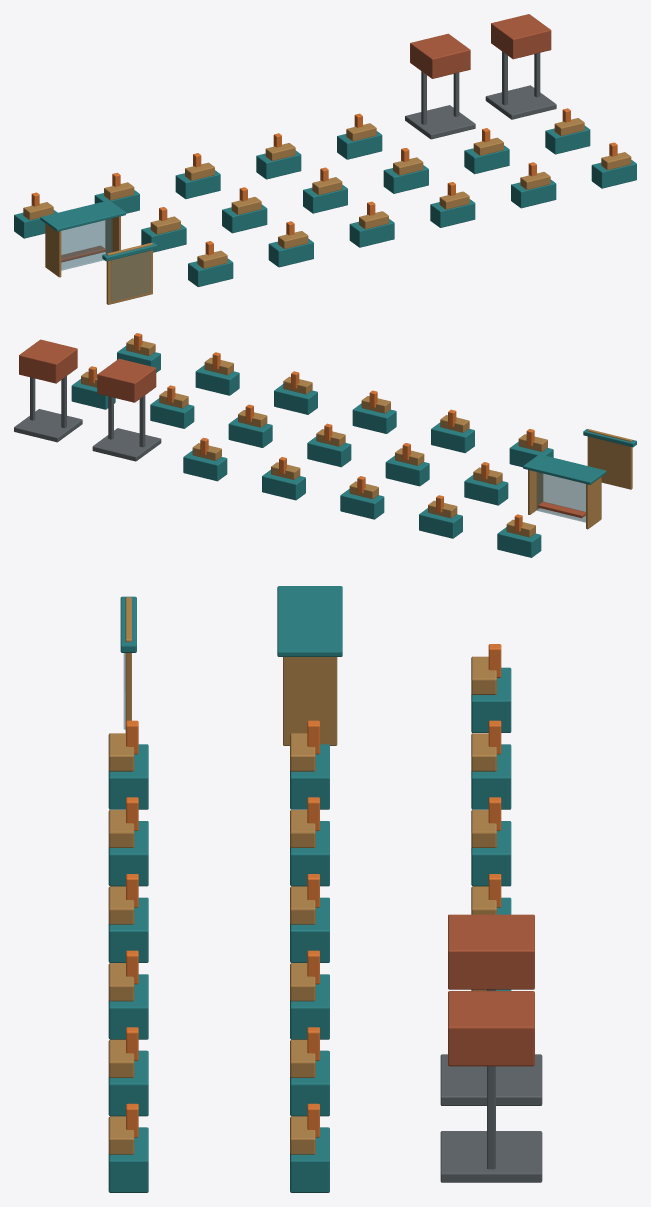
The model's file is infinite_backlot_expansion_assets.glb.
3 views of the same model, one above another, from view 1: azimuth 30°, elevation 25°; view 2: azimuth 150°, elevation 25°; view 3: azimuth 270°, elevation 25° (orthographic). The views are drawn at different scales.
Visible parts, largest first — view 1: LIB_CORNER_WINDOW_00, LIB_WATER_TOWER_SILHOUETTE_03, LIB_CHIMNEY_CLUSTER_03, LIB_TRANSIT_SHELTER_00, LIB_CORNER_WINDOW_01, LIB_WATER_TOWER_SILHOUETTE_00, LIB_TRANSIT_SHELTER_03, LIB_CHIMNEY_CLUSTER_00, LIB_FOLDING_BARRIER_00, LIB_NEWSPAPER_BOX_00, LIB_BOLLARD_FAMILY_00, LIB_ROLLING_SHUTTER_00 (+15 smaller); view 2: LIB_WATER_TOWER_SILHOUETTE_03, LIB_CHIMNEY_CLUSTER_03, LIB_CORNER_WINDOW_00, LIB_TRANSIT_SHELTER_00, LIB_WATER_TOWER_SILHOUETTE_00, LIB_CHIMNEY_CLUSTER_00, LIB_TRANSIT_SHELTER_03, LIB_PARKING_METER_00, LIB_BIKE_RACK_VARIANT_00, LIB_NEWSPAPER_BOX_00, LIB_TRAFFIC_SIGNAL_00, LIB_TRANSIT_MAP_00 (+16 smaller); view 3: LIB_WATER_TOWER_SILHOUETTE_03, LIB_CHIMNEY_CLUSTER_03, LIB_CHIMNEY_CLUSTER_00, LIB_TRANSIT_SHELTER_03, LIB_TRANSIT_SHELTER_02, LIB_WATER_TOWER_SILHOUETTE_00, LIB_UTILITY_CONDUIT_BUNDLE_00, LIB_BOLLARD_FAMILY_00, LIB_ROOF_HVAC_CLUSTER_00, LIB_TREE_GUARD_00, LIB_ROLLING_SHUTTER_00, LIB_SHOP_ENTRANCE_CANOPY_00 (+25 smaller).
Boxes of the visible parts, x1,y1,x2,y2 form: LIB_CORNER_WINDOW_00: (106, 242, 152, 304); LIB_WATER_TOWER_SILHOUETTE_03: (410, 33, 470, 78); LIB_CHIMNEY_CLUSTER_03: (491, 14, 551, 59); LIB_TRANSIT_SHELTER_00: (61, 218, 112, 270); LIB_CORNER_WINDOW_01: (111, 251, 150, 301); LIB_WATER_TOWER_SILHOUETTE_00: (405, 105, 475, 139); LIB_TRANSIT_SHELTER_03: (40, 200, 125, 231); LIB_CHIMNEY_CLUSTER_00: (485, 85, 556, 119); LIB_FOLDING_BARRIER_00: (256, 150, 301, 179); LIB_NEWSPAPER_BOX_00: (222, 204, 267, 233); LIB_BOLLARD_FAMILY_00: (545, 125, 590, 154); LIB_ROLLING_SHUTTER_00: (430, 199, 475, 227); LIB_WATER_TOWER_SILHOUETTE_03: (97, 358, 156, 402); LIB_CHIMNEY_CLUSTER_03: (19, 339, 77, 383); LIB_CORNER_WINDOW_00: (587, 429, 632, 489); LIB_TRANSIT_SHELTER_00: (536, 472, 585, 522); LIB_WATER_TOWER_SILHOUETTE_00: (92, 428, 161, 461); LIB_CHIMNEY_CLUSTER_00: (14, 409, 82, 442); LIB_TRANSIT_SHELTER_03: (523, 454, 606, 484); LIB_PARKING_METER_00: (307, 436, 351, 467); LIB_BIKE_RACK_VARIANT_00: (340, 489, 384, 519); LIB_NEWSPAPER_BOX_00: (385, 455, 429, 486); LIB_TRAFFIC_SIGNAL_00: (150, 398, 194, 428); LIB_TRANSIT_MAP_00: (464, 475, 508, 505); LIB_WATER_TOWER_SILHOUETTE_03: (448, 914, 534, 989); LIB_CHIMNEY_CLUSTER_03: (448, 991, 534, 1066); LIB_CHIMNEY_CLUSTER_00: (440, 1131, 542, 1182); LIB_TRANSIT_SHELTER_03: (277, 586, 342, 656); LIB_TRANSIT_SHELTER_02: (283, 657, 337, 745); LIB_WATER_TOWER_SILHOUETTE_00: (440, 1054, 542, 1105); LIB_UTILITY_CONDUIT_BUNDLE_00: (108, 1127, 148, 1192); LIB_BOLLARD_FAMILY_00: (290, 1127, 329, 1192); LIB_ROOF_HVAC_CLUSTER_00: (108, 897, 148, 962); LIB_TREE_GUARD_00: (471, 744, 511, 809); LIB_ROLLING_SHUTTER_00: (108, 974, 148, 1039); LIB_SHOP_ENTRANCE_CANOPY_00: (108, 744, 148, 809).
Size of the model in its own units: 33.55 by 5.1 by 11.95.
